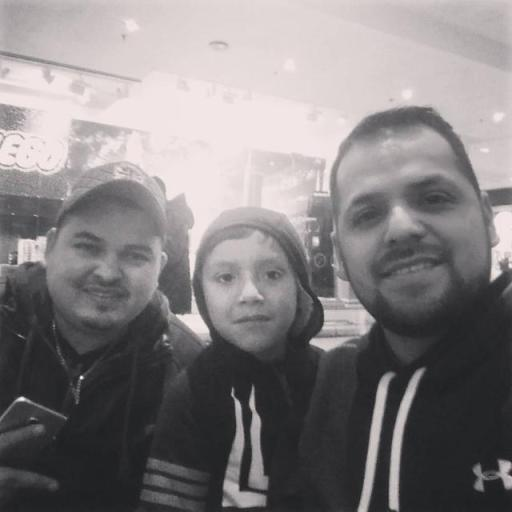Under Armour: (468, 455, 512, 496)
